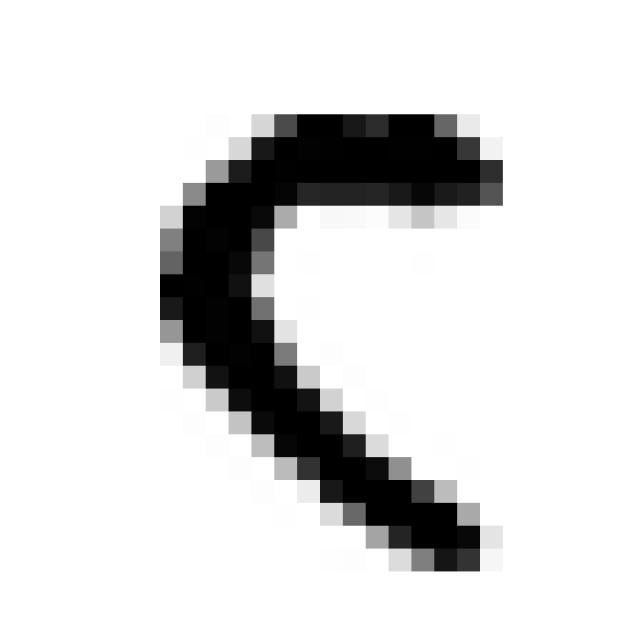2 -two-: (142, 89, 518, 588)
